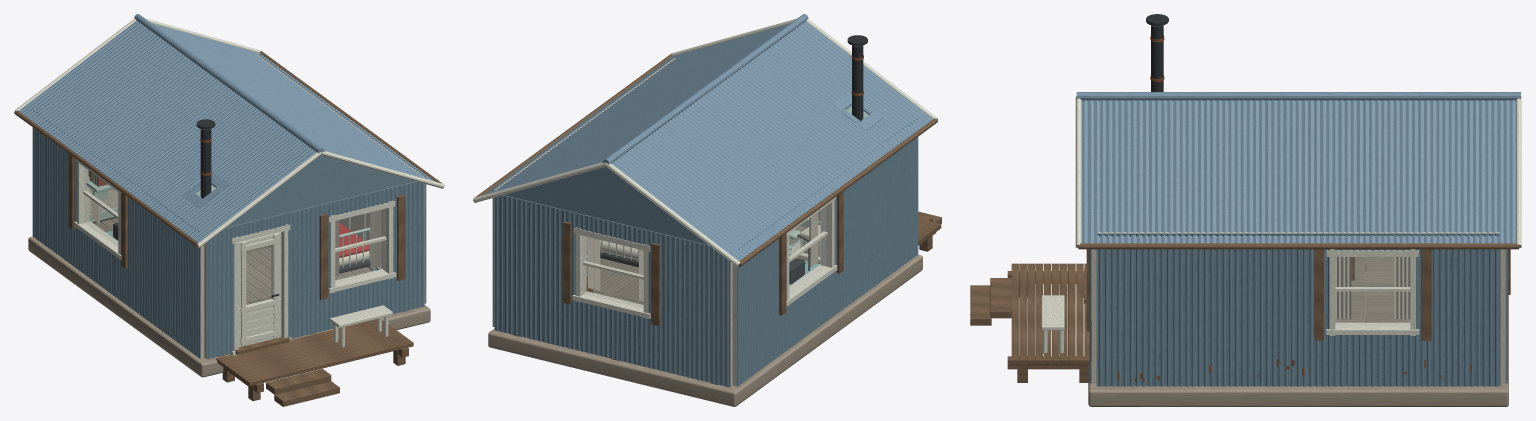
File: mountain_repair_station.glb
The picture shows the model from 3 angles, left to right: view 1: azimuth 30°, elevation 25°; view 2: azimuth 150°, elevation 25°; view 3: azimuth 270°, elevation 25°; orthographic projection. The views are drawn at different scales.
Visible parts, largest first — view 1: MS_Roof_West, MS_Corrugated_West, MS_Corrugated_Front, MS_Roof_East, MS_Siding_Base_West, MS_Gable_Front, MS_Foundation, MS_Glass_Front, MS_Siding_Base_Front.002, MS_Siding_Base_West.003, MS_Siding_Base_Front, MS_Siding_Base_Front.005 (+46 smaller); view 2: MS_Roof_West, MS_Corrugated_Back, MS_Corrugated_West, MS_Roof_East, MS_Foundation, MS_Siding_Base_Back.003, MS_Siding_Base_Back, MS_Siding_Base_West, MS_Gable_Back, MS_Siding_Base_West.003, MS_Glass_Back, MS_Glass_West (+24 smaller); view 3: MS_Roof_East, MS_Corrugated_East, MS_Siding_Base_East, MS_Foundation, MS_Siding_Base_East.003, MS_Glass_East, MS_Roof_Ridge, MS_Eave_Fascia.001, MS_Siding_Base_East.001, MS_Sill_East, MS_Gable_Fascia.002, MS_Wood_Window_Decoration_East.001 (+21 smaller).
Part boxes in pixels (x1,y1,x2,y2): MS_Roof_West: (19,21,316,242); MS_Corrugated_West: (33,111,198,357); MS_Corrugated_Front: (207,182,423,359); MS_Roof_East: (152,23,435,181); MS_Siding_Base_West: (120,175,200,358); MS_Gable_Front: (227,155,415,227); MS_Foundation: (28,236,430,377); MS_Glass_Front: (336,209,385,282); MS_Siding_Base_Front.002: (285,202,332,338); MS_Siding_Base_West.003: (32,110,77,268); MS_Siding_Base_Front: (206,225,235,359); MS_Siding_Base_Front.005: (390,181,424,313); MS_Roof_West: (611,21,932,260); MS_Corrugated_Back: (495,195,728,387); MS_Corrugated_West: (738,119,917,385); MS_Roof_East: (482,24,789,195); MS_Foundation: (488,254,922,406); MS_Siding_Base_Back.003: (494,195,578,349); MS_Siding_Base_Back: (646,230,730,387); MS_Siding_Base_West: (834,118,918,315); MS_Gable_Back: (505,166,708,244); MS_Siding_Base_West.003: (736,214,785,386); MS_Glass_Back: (584,236,642,307); MS_Glass_West: (790,207,825,291); MS_Roof_East: (1081,100,1515,243); MS_Corrugated_East: (1099,234,1498,386); MS_Siding_Base_East: (1096,233,1332,386); MS_Foundation: (1088,258,1508,406); MS_Siding_Base_East.003: (1413,233,1500,386); MS_Glass_East: (1336,257,1409,325); MS_Roof_Ridge: (1076,92,1520,100); MS_Eave_Fascia.001: (1078,243,1518,249); MS_Siding_Base_East.001: (1332,335,1413,386); MS_Sill_East: (1326,322,1419,334); MS_Gable_Fascia.002: (1075,96,1081,248); MS_Wood_Window_Decoration_East.001: (1421,249,1431,340).
Bounding box in the file's own units: 5.13 × 4.6 × 8.19.
26 materials, 18 textured.
